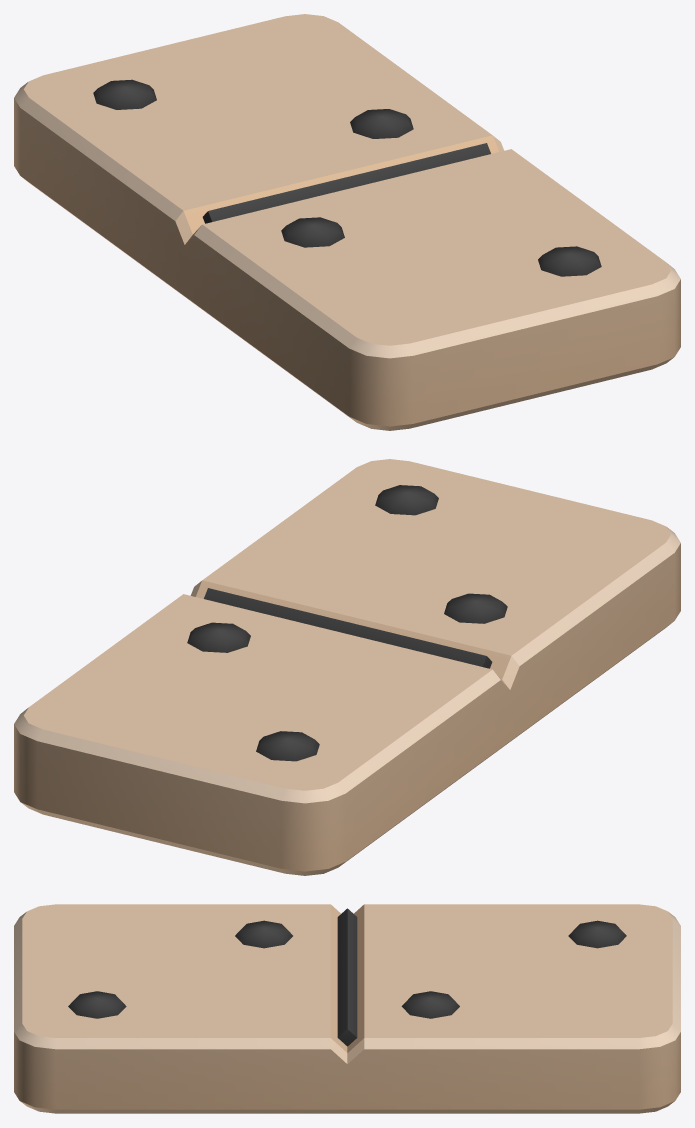
File: domino_tile_2-2.obj
The picture shows the model from 3 angles, top to bottom: view 1: azimuth 30°, elevation 25°; view 2: azimuth 150°, elevation 25°; view 3: azimuth 270°, elevation 25°; orthographic projection. The views are drawn at different scales.
Visible parts, largest first — view 1: domino_tile_2-2; view 2: domino_tile_2-2; view 3: domino_tile_2-2.
Part boxes in pixels (box(x1,y1,x2,y2)): domino_tile_2-2: box(14, 14, 680, 430); domino_tile_2-2: box(14, 459, 680, 875); domino_tile_2-2: box(14, 904, 680, 1113).
Size of the model in its own units: 1 by 0.2767 by 2.
1 material, 1 textured.
